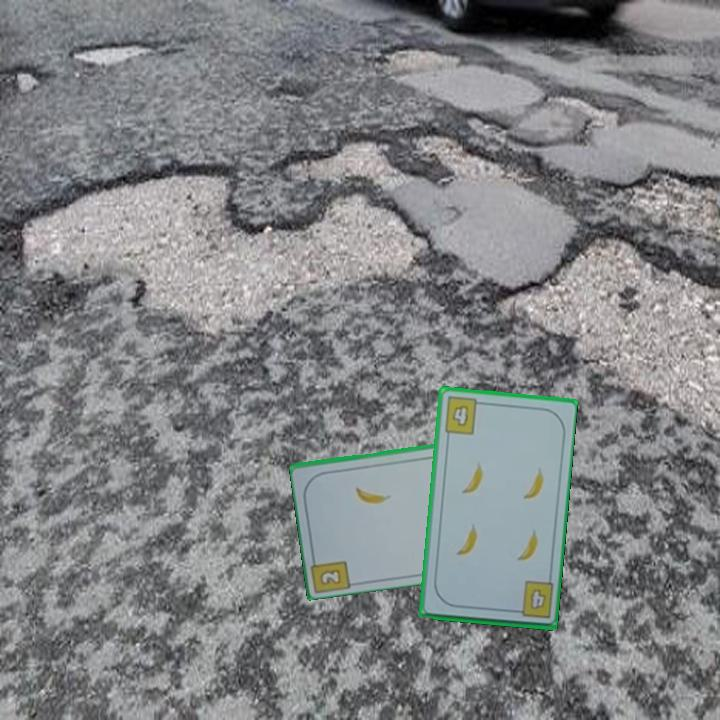2b: (316, 565, 345, 588)
4b: (509, 578, 556, 621), (441, 393, 486, 437)
